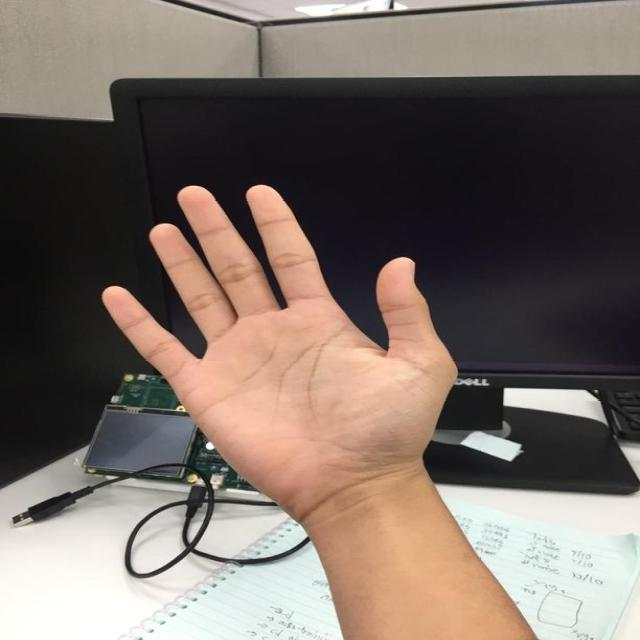hand: (99, 179, 463, 507)
